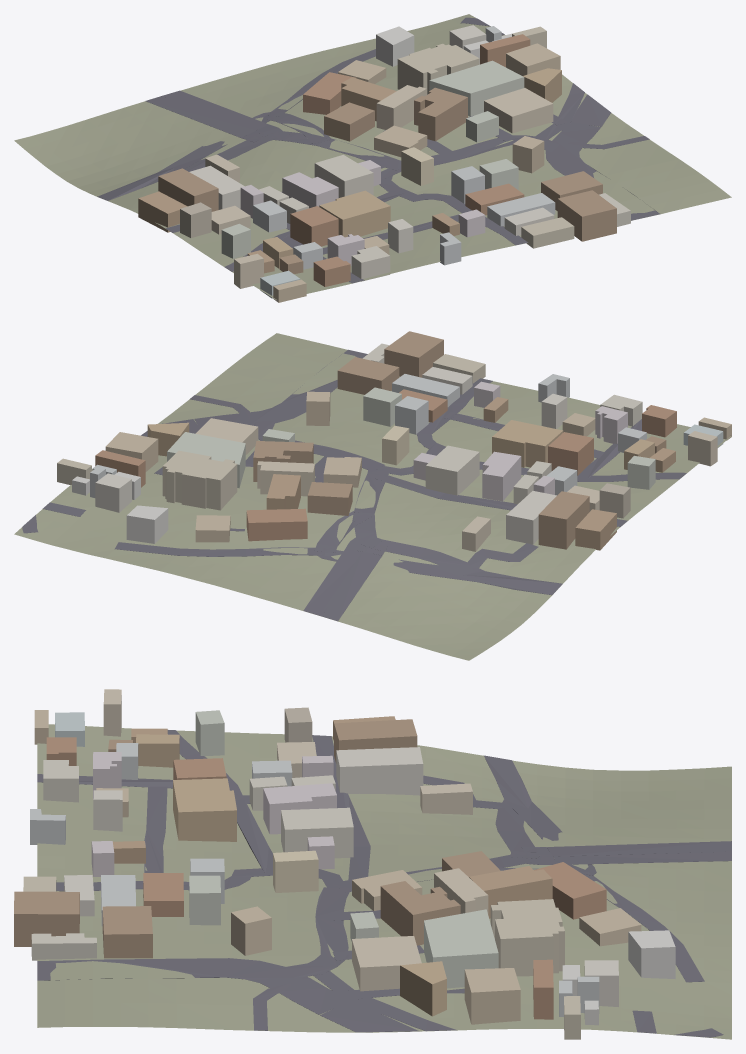
The model's file is chunk_7_3.glb.
The picture shows the model from 3 angles, top to bottom: view 1: azimuth 30°, elevation 25°; view 2: azimuth 150°, elevation 25°; view 3: azimuth 270°, elevation 25°; orthographic projection. The views are drawn at different scales.
Visible parts, largest first — view 1: geometry_63, geometry_34, geometry_31, geometry_55, geometry_5, geometry_30, geometry_35, geometry_85, geometry_19, geometry_27, geometry_3, geometry_40 (+53 smaller); view 2: geometry_63, geometry_31, geometry_27, geometry_19, geometry_5, geometry_55, geometry_32, geometry_52, geometry_85, geometry_34, geometry_8, geometry_2 (+49 smaller); view 3: geometry_63, geometry_85, geometry_31, geometry_34, geometry_2, geometry_5, geometry_55, geometry_30, geometry_33, geometry_35, geometry_19, geometry_52 (+59 smaller).
Part boxes in pixels (bbox=[...]): geometry_63: bbox=[14, 14, 731, 300]; geometry_34: bbox=[429, 60, 524, 116]; geometry_31: bbox=[397, 43, 479, 94]; geometry_55: bbox=[557, 190, 616, 241]; geometry_5: bbox=[319, 190, 390, 237]; geometry_30: bbox=[414, 87, 467, 141]; geometry_35: bbox=[484, 88, 553, 133]; geometry_85: bbox=[545, 122, 660, 220]; geometry_19: bbox=[314, 154, 373, 197]; geometry_27: bbox=[158, 168, 218, 211]; geometry_3: bbox=[290, 206, 338, 246]; geometry_40: bbox=[324, 102, 374, 141]; geometry_63: bbox=[14, 333, 731, 660]; geometry_31: bbox=[162, 450, 237, 510]; geometry_27: bbox=[538, 491, 589, 549]; geometry_19: bbox=[425, 445, 479, 495]; geometry_5: bbox=[492, 420, 563, 467]; geometry_55: bbox=[384, 331, 443, 377]; geometry_32: bbox=[246, 508, 307, 541]; geometry_52: bbox=[337, 357, 399, 394]; geometry_85: bbox=[194, 349, 367, 428]; geometry_34: bbox=[167, 432, 245, 488]; geometry_8: bbox=[482, 451, 521, 501]; geometry_2: bbox=[506, 491, 556, 544]; geometry_63: bbox=[37, 724, 731, 1039]; geometry_85: bbox=[37, 958, 348, 1014]; geometry_31: bbox=[490, 899, 564, 976]; geometry_34: bbox=[424, 909, 498, 988]; geometry_2: bbox=[336, 747, 423, 795]; geometry_5: bbox=[173, 778, 236, 841]; geometry_55: bbox=[14, 891, 79, 946]; geometry_30: bbox=[380, 881, 460, 945]; geometry_33: bbox=[464, 968, 520, 1024]; geometry_35: bbox=[352, 936, 421, 991]; geometry_19: bbox=[281, 807, 353, 858]; geometry_52: bbox=[102, 906, 152, 958].
Bounding box in the file's own units: 264 × 29.91 × 258.
